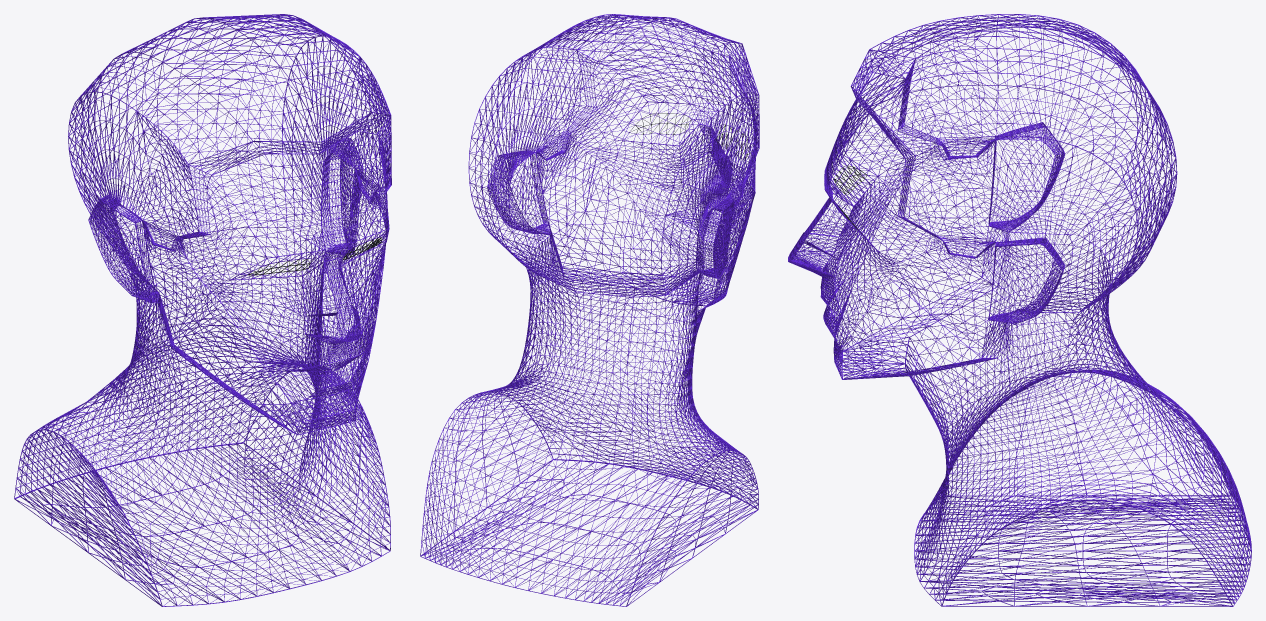
File: head2.glb
3 views of the same model, side by side, from view 1: azimuth 30°, elevation 25°; view 2: azimuth 150°, elevation 25°; view 3: azimuth 270°, elevation 25° (orthographic). The views are drawn at different scales.
Bounding box in the file's own units: 0.1928 × 0.3546 × 0.289.
